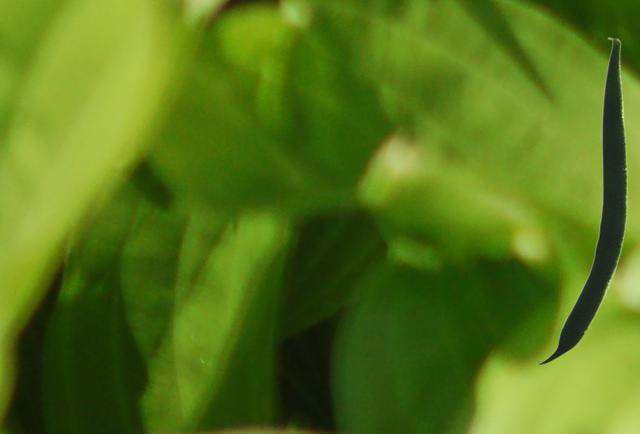french_bean: (536, 37, 626, 364)
